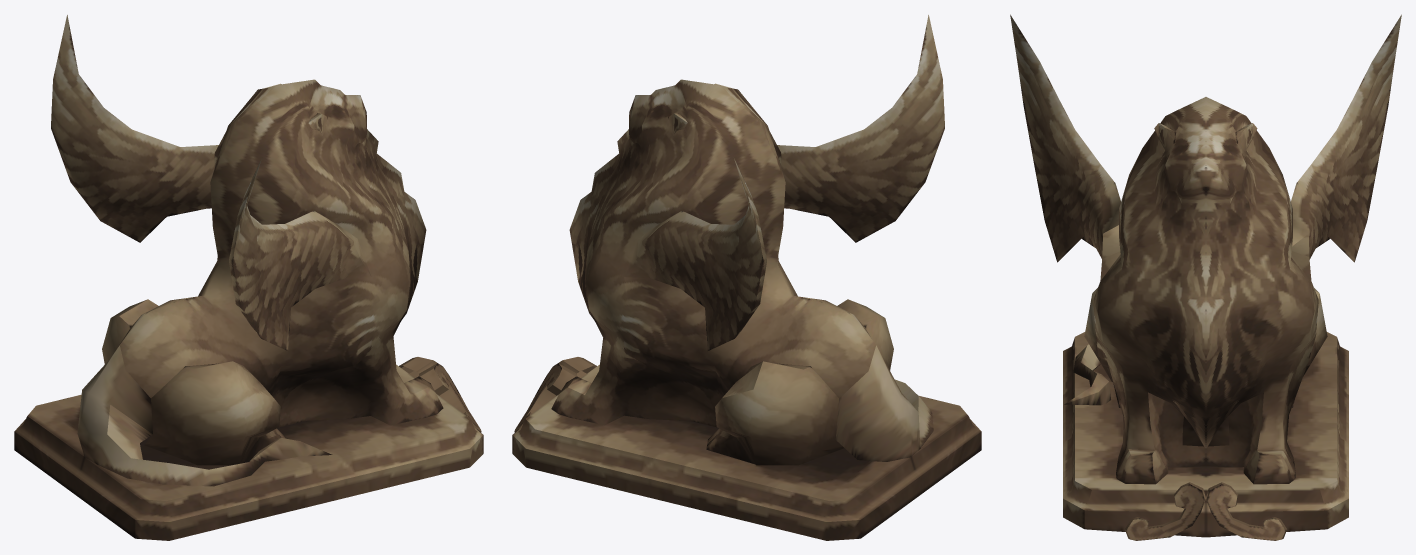
File: bfcs_diaoxiang.FBX
3 renders of one model, left to right at view 1: azimuth 30°, elevation 25°; view 2: azimuth 150°, elevation 25°; view 3: azimuth 270°, elevation 25°, orthographic.
Parts seen in each view (by area): view 1: bfcs_diaoxiang; view 2: bfcs_diaoxiang; view 3: bfcs_diaoxiang.
Part boxes in pixels (left/top/right/bottom): bfcs_diaoxiang: left=14, top=15, right=483, bottom=540; bfcs_diaoxiang: left=512, top=15, right=981, bottom=540; bfcs_diaoxiang: left=1010, top=14, right=1401, bottom=540.
Size of the model in its own units: 86.01 by 85.22 by 77.21.
